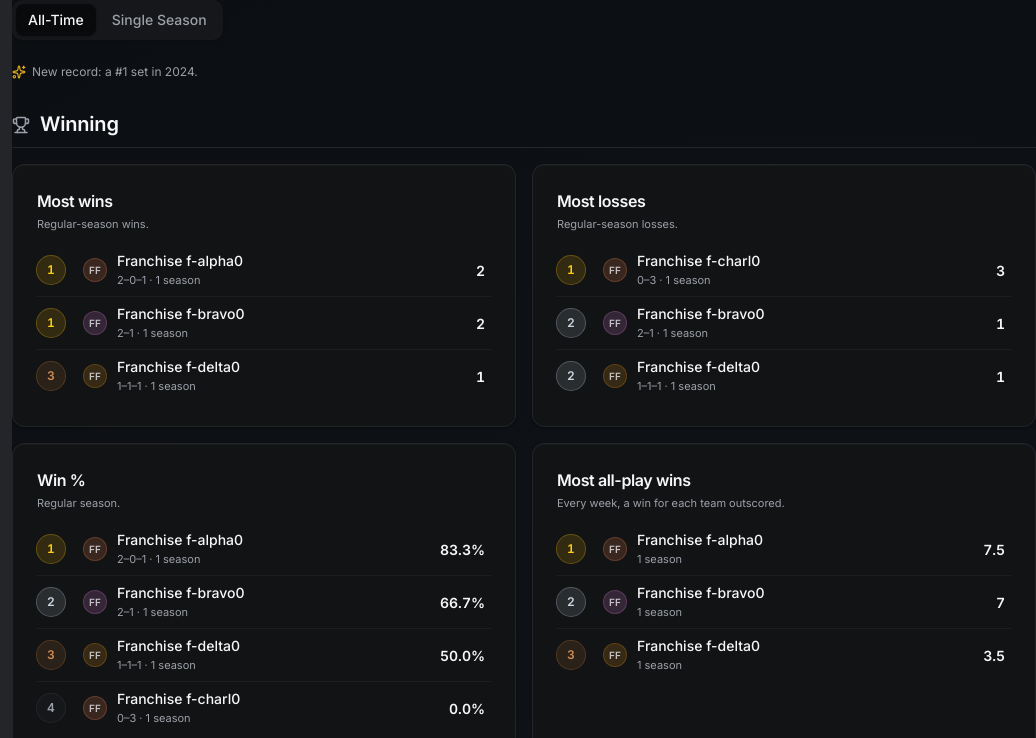
Test: RecordBook › shows five rows of a long list, opens to the rest, and switches a game card to the playoffs
The width and height of the screenshot is (1036, 738).
Expected: the heading "Winning" is shown, [12, 112, 119, 137]
# Radix tabs activate on mouse down.
Press the mouse on the tab "Single Season" at (159, 20), box [100, 4, 219, 36]
(page scrolled)
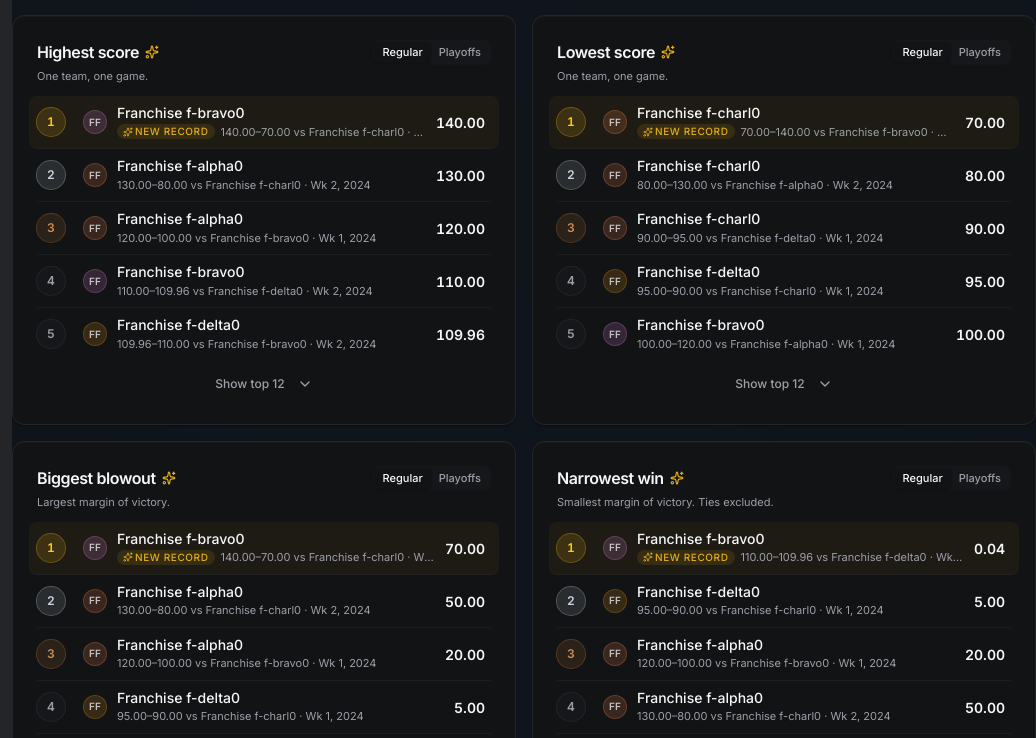
Expected: the 1st text "New record" is shown, [117, 124, 214, 139]
Click the 1st button "Show top 12".
click(264, 384)  # box [37, 368, 491, 400]
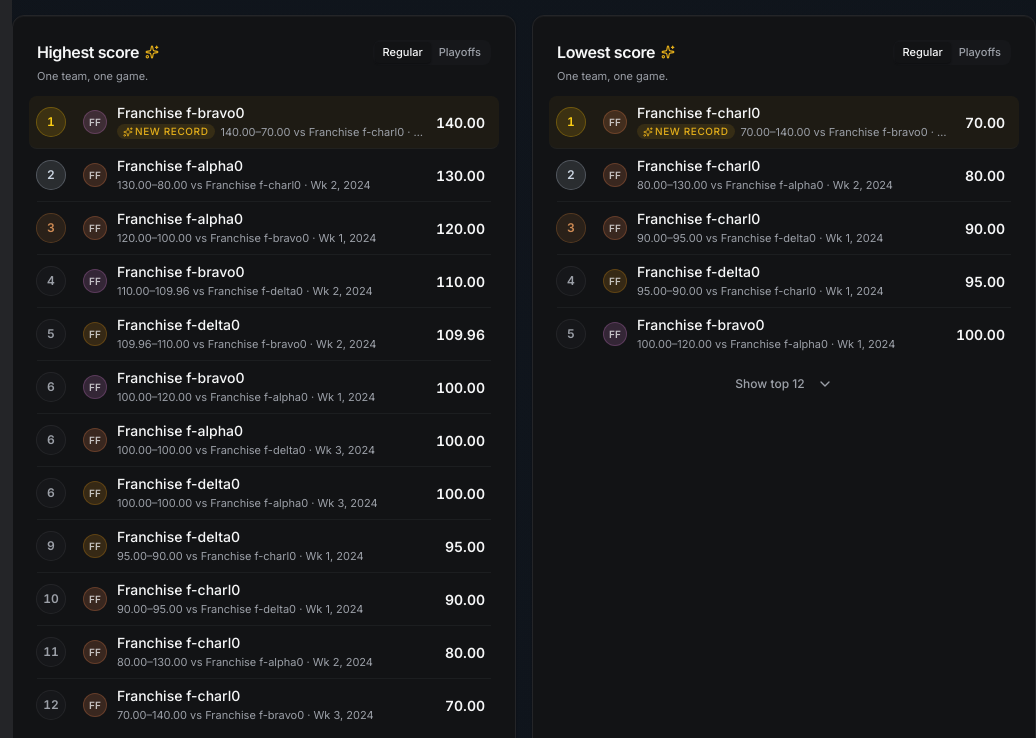
Click the 1st button "Playoffs".
click(460, 53)  # box [431, 42, 489, 63]
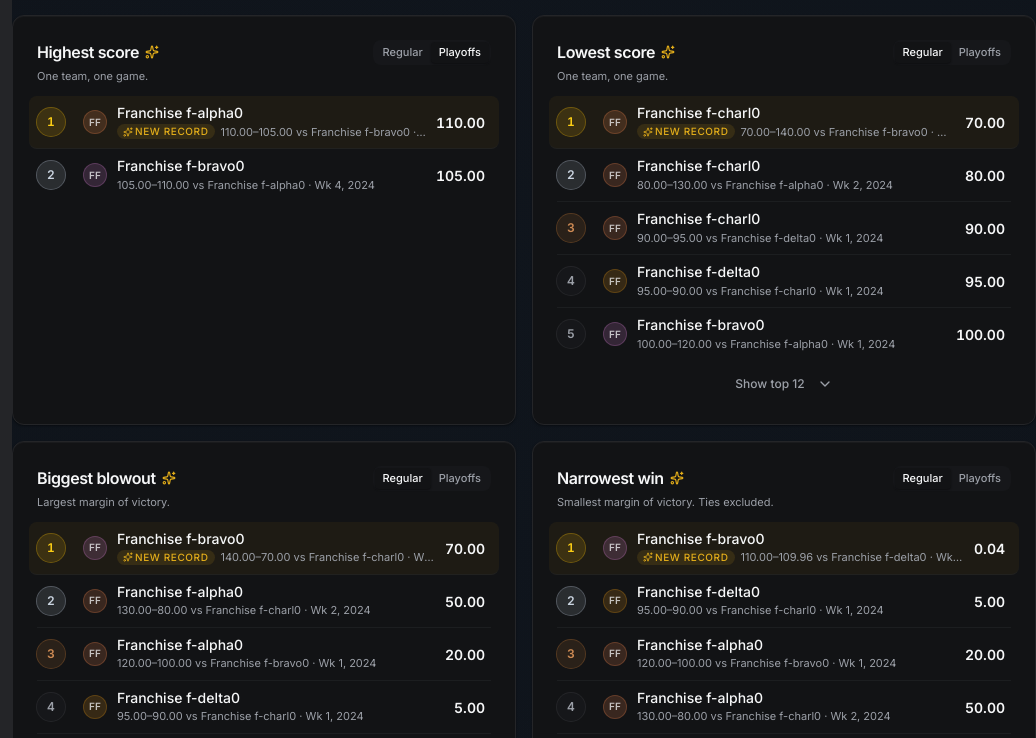
Expected: the 1st text "0.04" is shown, [974, 540, 1005, 557]
Expected: the 1st text "110.00–109.96 vs Franchise f-delta0 · Wk 2, 2024" is shown, [740, 549, 964, 566]
Expected: the text "110.00" is shown, [436, 114, 485, 131]
